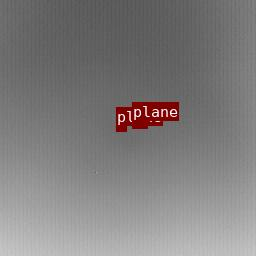plane: (132, 121, 147, 128), (116, 126, 126, 131)
